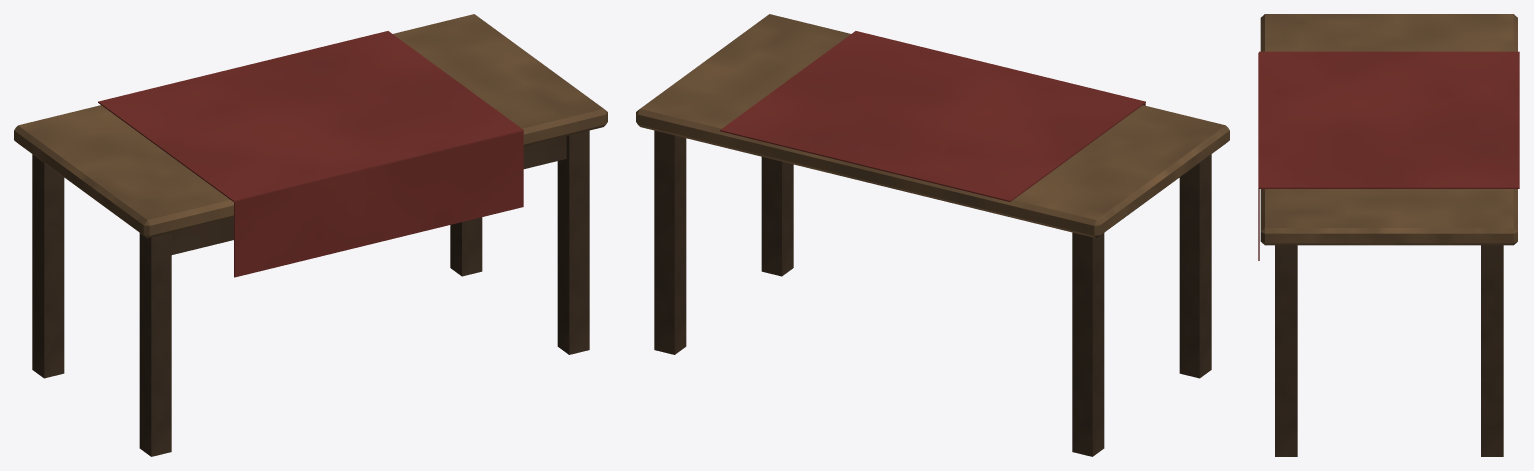
Rendered from display_table.obj.
The picture shows the model from 3 angles, left to right: view 1: azimuth 30°, elevation 25°; view 2: azimuth 150°, elevation 25°; view 3: azimuth 270°, elevation 25°; orthographic projection. The views are drawn at different scales.
Visible parts, largest first — view 1: display_table; view 2: display_table; view 3: display_table.
Part boxes in pixels (x1,y1,x2,y2): display_table: (14,14,607,456); display_table: (636,14,1229,456); display_table: (1258,14,1519,456).
Bounding box in the file's own units: 1.6 × 0.804 × 0.812.
1 material, 1 textured.
